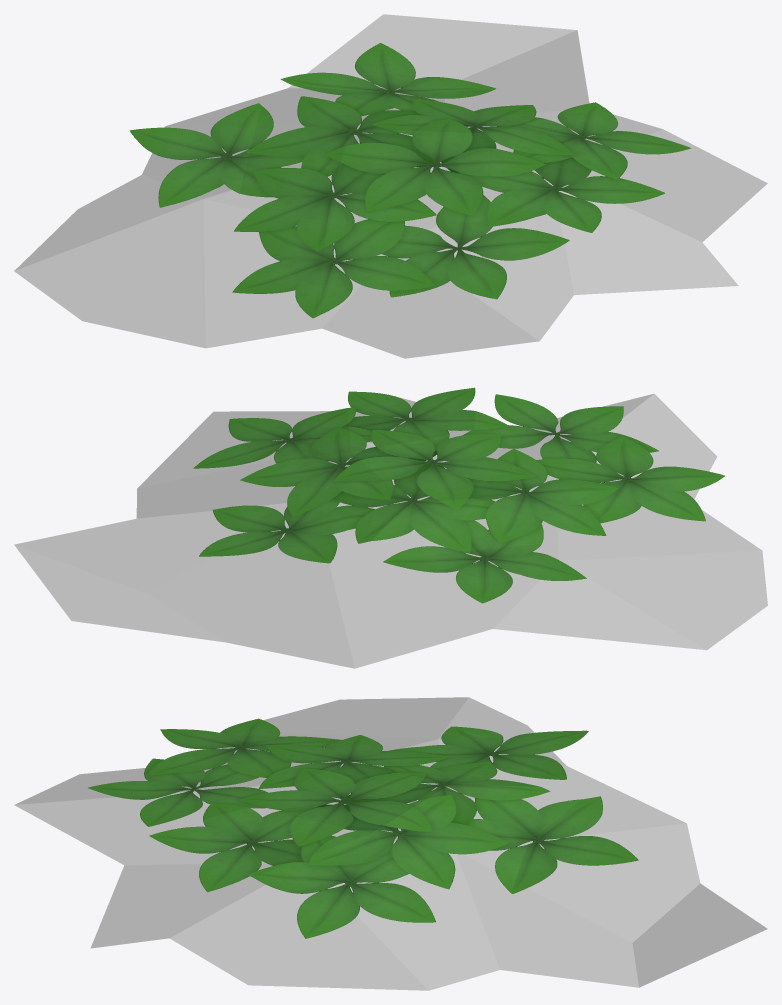
File: leafCovering.fbx
The picture shows the model from 3 angles, top to bottom: view 1: azimuth 30°, elevation 25°; view 2: azimuth 150°, elevation 25°; view 3: azimuth 270°, elevation 25°; orthographic projection. The views are drawn at different scales.
Visible parts, largest first — view 1: leafCoveringDark1, leafCoveringLight; view 2: leafCoveringDark1, leafCoveringLight; view 3: leafCoveringDark1, leafCoveringLight.
Part boxes in pixels (<box>): leafCoveringDark1: <box>14,14,767,358</box>; leafCoveringLight: <box>129,43,691,318</box>; leafCoveringDark1: <box>14,393,767,668</box>; leafCoveringLight: <box>193,387,724,603</box>; leafCoveringDark1: <box>14,697,767,990</box>; leafCoveringLight: <box>88,718,638,938</box>.
Bounding box in the file's own units: 558 × 59.53 × 578.
